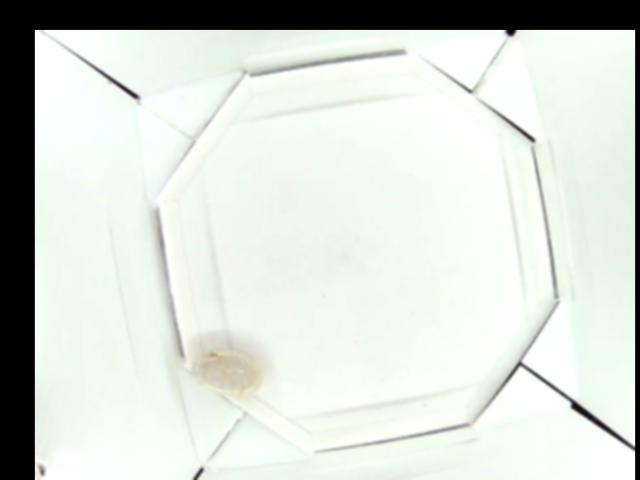Pebble: (192, 348, 259, 405)
